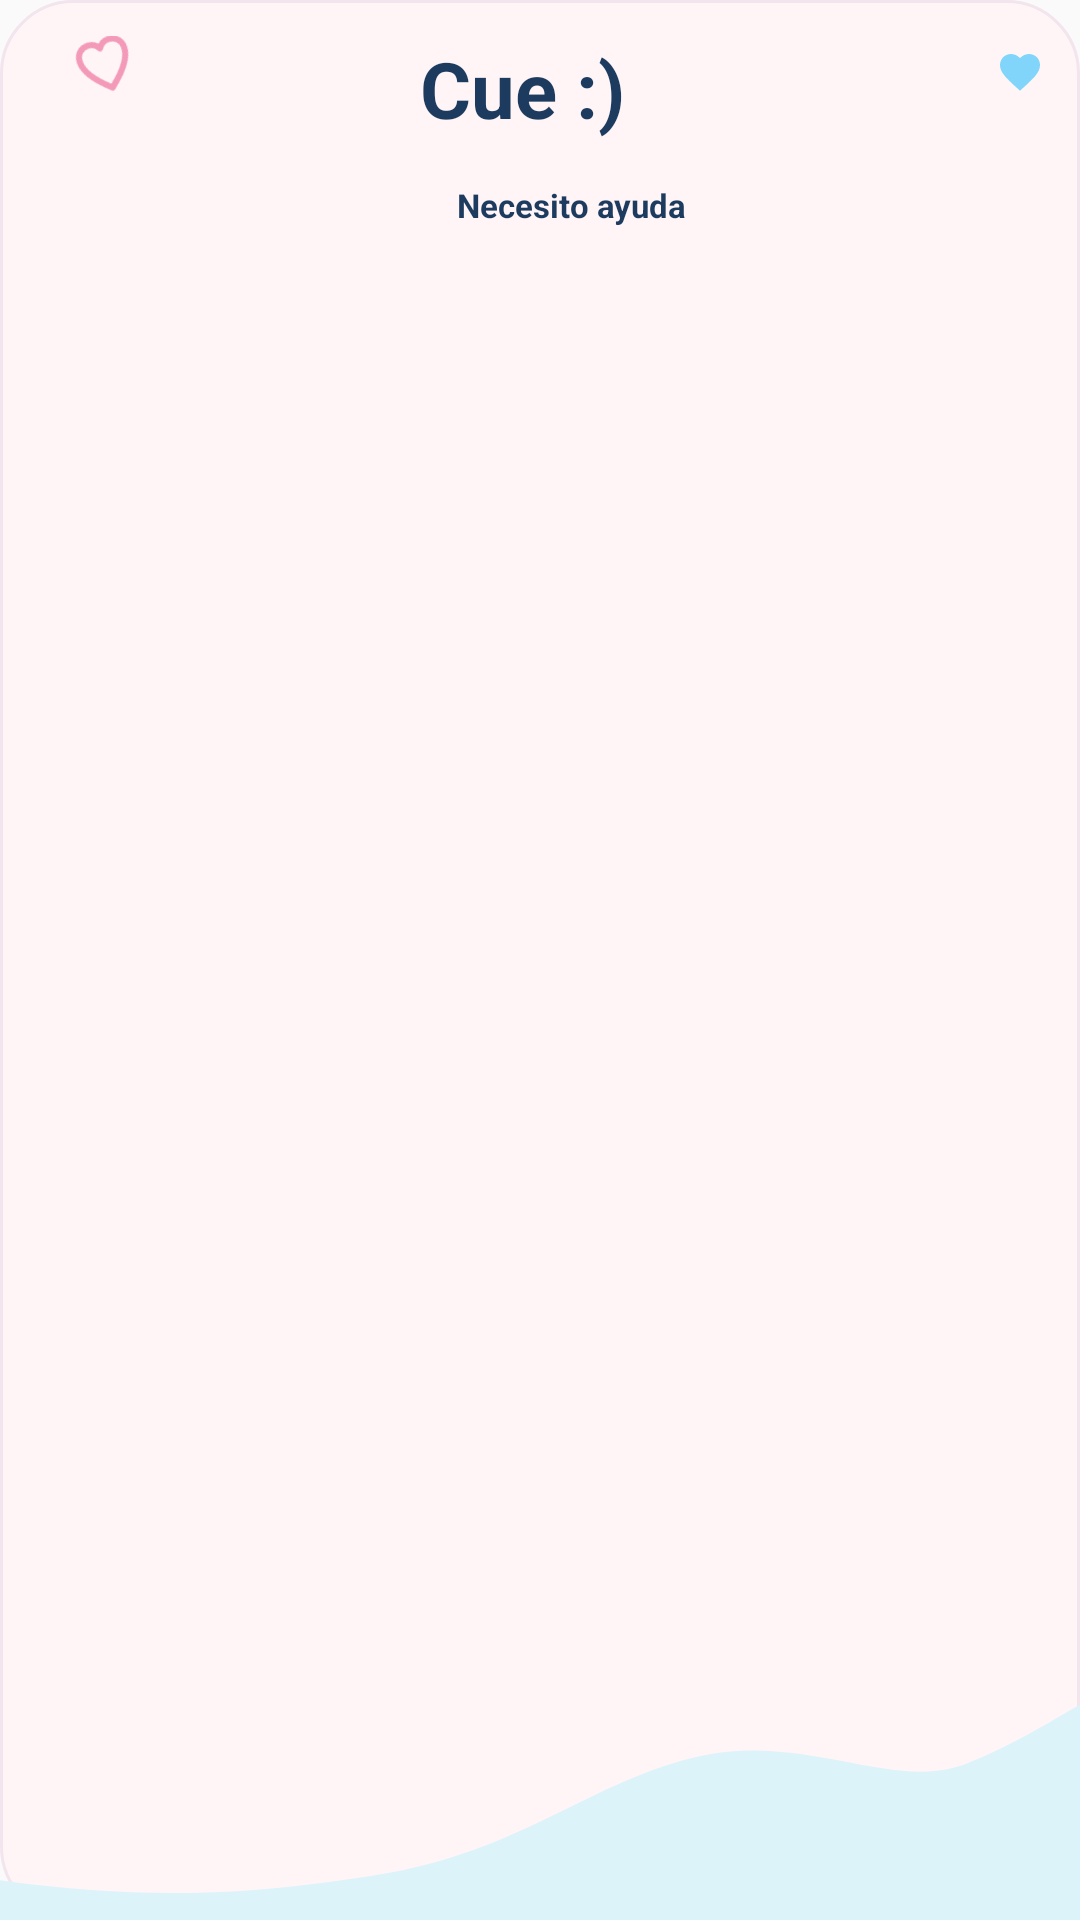

Screen size 1080 x 1920. Icon name, then its center in pixels as point (x, y):
Corazón azul: point (1020, 72)
